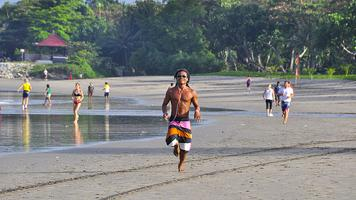person: (162, 68, 204, 172)
